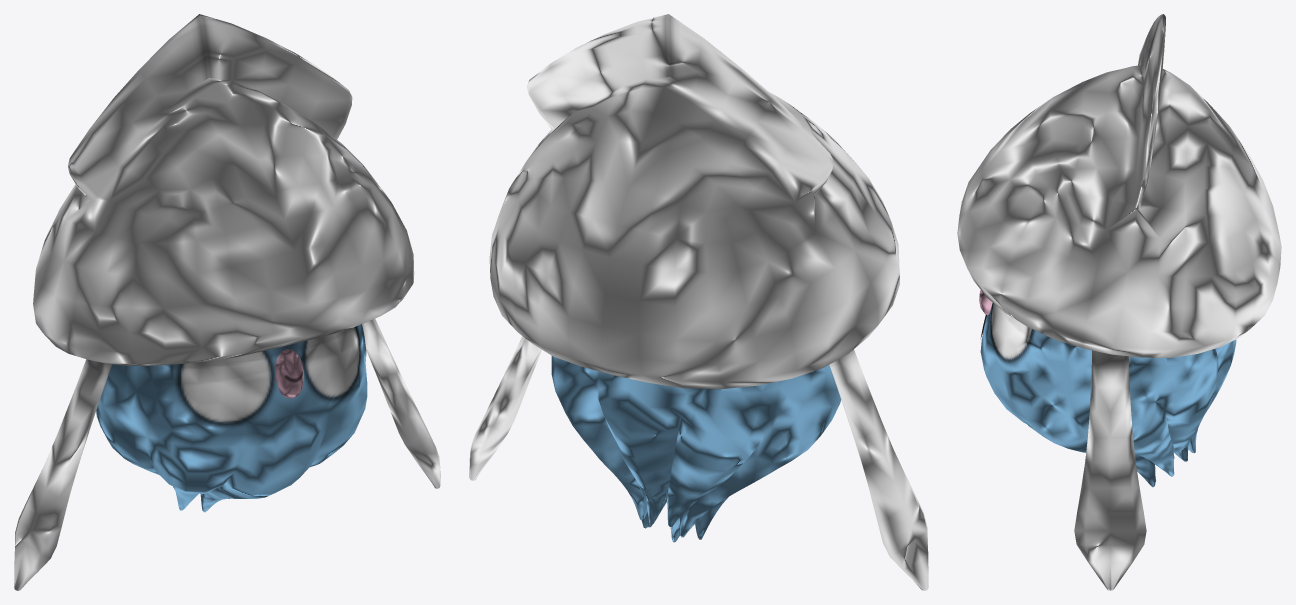
The model's file is 686-inkay.gltf.
3 views of the same model, side by side, from view 1: azimuth 30°, elevation 25°; view 2: azimuth 150°, elevation 25°; view 3: azimuth 270°, elevation 25° (orthographic). The views are drawn at different scales.
Visible parts, largest first — view 1: Inkay; view 2: Inkay; view 3: Inkay.
Part boxes in pixels (box(x1,y1,x2,y2)): Inkay: box(14, 14, 440, 590); Inkay: box(469, 14, 928, 590); Inkay: box(957, 14, 1281, 590).
Bounding box in the file's own units: 35.64 × 40.41 × 24.76.
6 materials, 6 textured.
